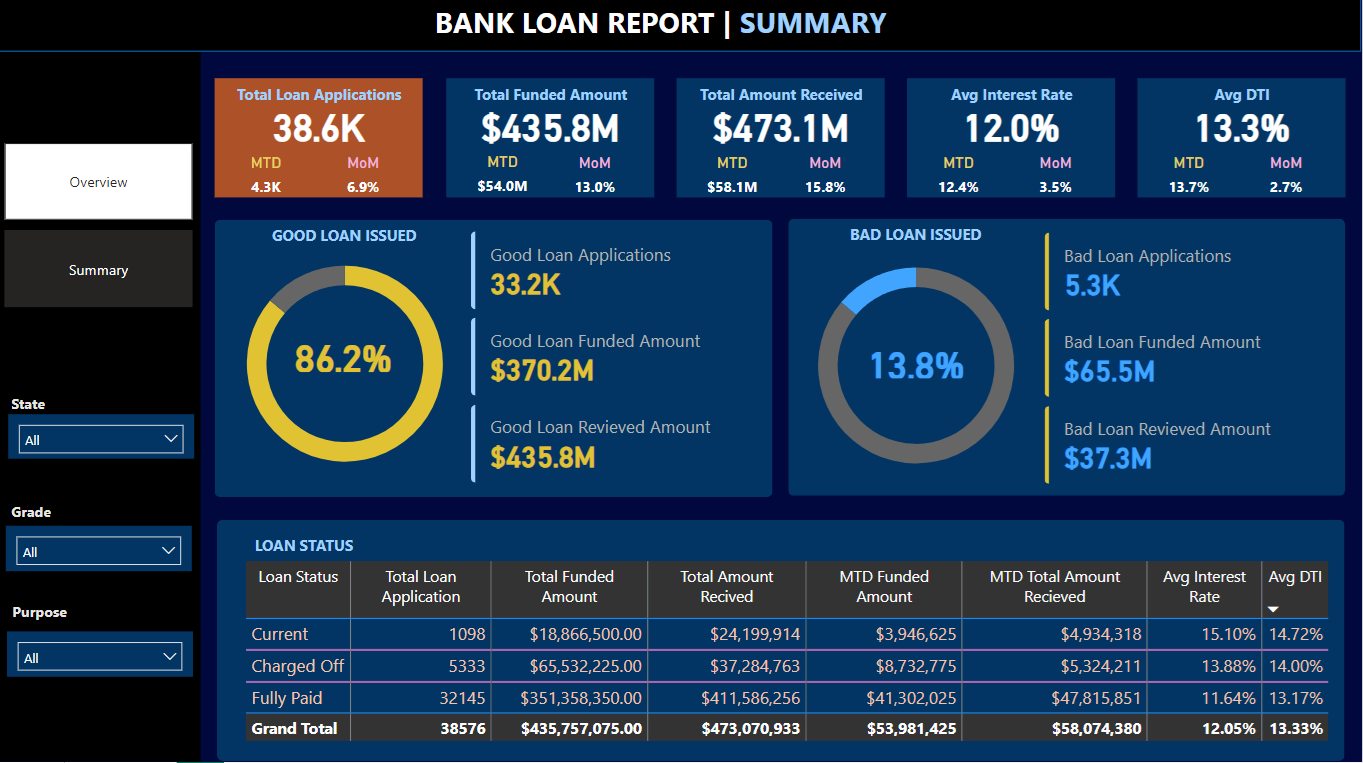

This screenshot's page, from the dashboard's own definition file:
{"tool":"powerbi","page":{"name":"Summary ","canvas":[1280,720],"ordinal":0},"visuals":[{"type":"shape","box":[0,54.7,192.7,664.8],"z":0},{"type":"shape","box":[206.2,79.7,194.8,111.6],"z":0,"group":"g1"},{"type":"shape","box":[422.1,79.7,194.8,111.6],"z":0,"group":"g4"},{"type":"shape","box":[638,79.7,194.8,111.6],"z":0,"group":"g3"},{"type":"shape","box":[853.9,79.7,194.8,111.6],"z":0,"group":"g2"},{"type":"shape","box":[1069.8,79.7,194.8,111.6],"z":0,"group":"g5"},{"type":"card","fields":{"Values":["financial_loan.Total Loan Application"]},"box":[206.2,95.6,194.8,54.7],"z":1000,"group":"g1"},{"type":"card","fields":{"Values":["financial_loan.Total Funded Amount"]},"box":[422.1,95.6,194.8,54.7],"z":1000,"group":"g4"},{"type":"card","fields":{"Values":["financial_loan.Total Amount Recived"]},"box":[638,95.6,194.8,54.7],"z":1000,"group":"g3"},{"type":"card","fields":{"Values":["financial_loan.Avg Interest Rate"]},"box":[853.9,95.6,194.8,54.7],"z":1000,"group":"g2"},{"type":"card","fields":{"Values":["financial_loan.Avg DTI"]},"box":[1069.8,95.6,194.8,54.7],"z":1000,"group":"g5"},{"type":"shape","box":[207.5,493.8,1055.9,225.8],"z":1000},{"type":"textbox","box":[207.3,79.7,193.7,31.9],"z":2000,"group":"g1"},{"type":"textbox","box":[423.2,79.7,193.7,31.9],"z":2000,"group":"g4"},{"type":"textbox","box":[639.1,79.7,193.7,31.9],"z":2000,"group":"g3"},{"type":"textbox","box":[855,79.7,193.7,31.9],"z":2000,"group":"g2"},{"type":"textbox","box":[1070.9,79.7,193.7,31.9],"z":2000,"group":"g5"},{"type":"shape","box":[742.8,211.3,521.4,259.6],"z":2000},{"type":"card","title":"MTD","fields":{"Values":["financial_loan.MTD Funded Amount"]},"box":[445.4,149.8,58.1,50.1],"z":3000,"group":"g4"},{"type":"card","title":"MTD","fields":{"Values":["financial_loan.MTD Loan Applications"]},"box":[229,150.3,51.3,50.1],"z":3000,"group":"g1"},{"type":"card","title":"MTD","fields":{"Values":["financial_loan.MTD Avg Interest"]},"box":[876.7,150.3,51.3,50.1],"z":3000,"group":"g2"},{"type":"card","title":"MTD","fields":{"Values":["financial_loan.MTD Avg DTI"]},"box":[1092.6,150.3,51.3,50.1],"z":3000,"group":"g5"},{"type":"card","title":"MTD","fields":{"Values":["financial_loan.MTD Total Amount Recieved"]},"box":[660.5,150.6,59.2,50.1],"z":3000,"group":"g3"},{"type":"shape","box":[205.6,212.4,522.6,259.6],"z":3000},{"type":"textbox","box":[1.1,0,193.7,31.9],"z":4000},{"type":"card","title":"MoM","fields":{"Values":["financial_loan.MoM Loan Application"]},"box":[320.1,150.3,51.3,50.1],"z":4000,"group":"g1"},{"type":"card","title":"MoM","fields":{"Values":["financial_loan.MoM Total funded Amount"]},"box":[536,150.3,51.3,50.1],"z":4000,"group":"g4"},{"type":"card","title":"MoM","fields":{"Values":["financial_loan.MoM Total Amount Recieved"]},"box":[751.9,150.3,51.3,50.1],"z":4000,"group":"g3"},{"type":"card","title":"MoM","fields":{"Values":["financial_loan.MoM Avg Int Rate"]},"box":[967.8,150.3,51.3,50.1],"z":4000,"group":"g2"},{"type":"card","title":"MoM","fields":{"Values":["financial_loan.MoM Avg DTI"]},"box":[1183.7,150.3,51.3,50.1],"z":4000,"group":"g5"},{"type":"textbox","box":[11.1,10,193.7,31.9],"z":5000},{"type":"textbox","box":[238.3,502.9,163.1,31.9],"z":6000},{"type":"textbox","box":[21.1,20,193.7,31.9],"z":7000},{"type":"textbox","box":[31.1,30,193.7,31.9],"z":8000},{"type":"shape","box":[0,0,1279.4,55],"z":9000},{"type":"textbox","box":[765.1,211,193.9,31.9],"z":10000},{"type":"textbox","box":[230.4,212.4,193.3,31.5],"z":11000},{"type":"card","fields":{"Values":["financial_loan.Good Loan %"]},"box":[266.3,319.1,119.1,40.5],"z":12000},{"type":"textbox","box":[407.1,3.4,448.1,46.8],"z":13000},{"type":"group","id":"g1","title":"Group 1","box":[206.2,79.7,194.8,120.8],"z":14000},{"type":"group","id":"g2","title":"Group 1","box":[853.9,79.7,194.8,120.8],"z":15000},{"type":"group","id":"g3","title":"Group 1","box":[638,79.7,194.8,120.8],"z":16000},{"type":"group","id":"g4","title":"Group 1","box":[422.1,79.7,194.8,120.8],"z":17000},{"type":"group","id":"g5","title":"Group 1","box":[1069.8,79.7,194.8,120.8],"z":18000},{"type":"donutChart","fields":{"Y":["financial_loan.Total Loan Application"],"Category":["financial_loan.Good vs Bad Loan"]},"box":[207.5,199.6,239.5,294.2],"z":19000},{"type":"cardVisual","fields":{"Data":["financial_loan.Good Loan Applications","financial_loan.Good Loan Funded Amount","financial_loan.Good Loan Revieved Amount"]},"box":[434.5,212.1,293.1,258.9],"z":20000},{"type":"donutChart","fields":{"Y":["financial_loan.Total Loan Application"],"Category":["financial_loan.Good vs Bad Loan"]},"box":[742.3,201.8,239.5,293.1],"z":21000},{"type":"card","fields":{"Values":["financial_loan.Bad Loan %"]},"box":[802.8,326.1,119.7,39.9],"z":22000},{"type":"cardVisual","fields":{"Data":["financial_loan.Bad Loan Applications","financial_loan.Bad Loan Funded Amount","financial_loan.Bad Loan Revieved Amount"]},"box":[971.5,213.2,293.1,258.9],"z":23000},{"type":"tableEx","fields":{"Values":["financial_loan.loan_status","financial_loan.Total Loan Application","financial_loan.Total Funded Amount","financial_loan.Total Amount Recived","financial_loan.MTD Funded Amount","financial_loan.MTD Total Amount Recieved","financial_loan.Avg Interest Rate","financial_loan.Avg DTI"]},"box":[229.2,526.8,1040,184.7],"z":24000},{"type":"slicer","fields":{"Values":["financial_loan.address_state"]},"box":[10.3,450.4,174.5,42.2],"z":25000},{"type":"textbox","box":[10.3,426.5,163.1,31.9],"z":26000},{"type":"slicer","fields":{"Values":["financial_loan.grade"]},"box":[11.4,551.9,174.5,42.2],"z":27000},{"type":"slicer","fields":{"Values":["financial_loan.purpose"]},"box":[10.3,652.3,174.5,42.2],"z":28000},{"type":"textbox","box":[10.3,526.8,163.1,31.9],"z":29000},{"type":"textbox","box":[10.3,628.3,163.1,31.9],"z":30000}]}

Visuals, with their boxes on the page's 1280x720 design canvas (x1, y1, x2, y2). These are canvas units, not pixel positions in the 1363x763 screenshot, which may show the page scaled, cropped or inside an application window:
shape: <box>0,55,193,720</box>
shape: <box>206,80,401,191</box>
shape: <box>422,80,617,191</box>
shape: <box>638,80,833,191</box>
shape: <box>854,80,1049,191</box>
shape: <box>1070,80,1265,191</box>
card - financial_loan.Total Loan Application: <box>206,96,401,150</box>
card - financial_loan.Total Funded Amount: <box>422,96,617,150</box>
card - financial_loan.Total Amount Recived: <box>638,96,833,150</box>
card - financial_loan.Avg Interest Rate: <box>854,96,1049,150</box>
card - financial_loan.Avg DTI: <box>1070,96,1265,150</box>
shape: <box>208,494,1263,720</box>
textbox: <box>207,80,401,112</box>
textbox: <box>423,80,617,112</box>
textbox: <box>639,80,833,112</box>
textbox: <box>855,80,1049,112</box>
textbox: <box>1071,80,1265,112</box>
shape: <box>743,211,1264,471</box>
"MTD" card: <box>445,150,504,200</box>
"MTD" card: <box>229,150,280,200</box>
"MTD" card: <box>877,150,928,200</box>
"MTD" card: <box>1093,150,1144,200</box>
"MTD" card: <box>660,151,720,201</box>
shape: <box>206,212,728,472</box>
textbox: <box>1,0,195,32</box>
"MoM" card: <box>320,150,371,200</box>
"MoM" card: <box>536,150,587,200</box>
"MoM" card: <box>752,150,803,200</box>
"MoM" card: <box>968,150,1019,200</box>
"MoM" card: <box>1184,150,1235,200</box>
textbox: <box>11,10,205,42</box>
textbox: <box>238,503,401,535</box>
textbox: <box>21,20,215,52</box>
textbox: <box>31,30,225,62</box>
shape: <box>0,0,1279,55</box>
textbox: <box>765,211,959,243</box>
textbox: <box>230,212,424,244</box>
card - financial_loan.Good Loan %: <box>266,319,385,360</box>
textbox: <box>407,3,855,50</box>
"Group 1" group: <box>206,80,401,200</box>
"Group 1" group: <box>854,80,1049,200</box>
"Group 1" group: <box>638,80,833,200</box>
"Group 1" group: <box>422,80,617,200</box>
"Group 1" group: <box>1070,80,1265,200</box>
donutChart - financial_loan.Total Loan Application x financial_loan.Good vs Bad Loan: <box>208,200,447,494</box>
cardVisual - financial_loan.Good Loan Applications x financial_loan.Good Loan Funded Amount: <box>434,212,728,471</box>
donutChart - financial_loan.Total Loan Application x financial_loan.Good vs Bad Loan: <box>742,202,982,495</box>
card - financial_loan.Bad Loan %: <box>803,326,922,366</box>
cardVisual - financial_loan.Bad Loan Applications x financial_loan.Bad Loan Funded Amount: <box>972,213,1265,472</box>
tableEx - financial_loan.loan_status x financial_loan.Total Loan Application: <box>229,527,1269,712</box>
slicer - financial_loan.address_state: <box>10,450,185,493</box>
textbox: <box>10,426,173,458</box>
slicer - financial_loan.grade: <box>11,552,186,594</box>
slicer - financial_loan.purpose: <box>10,652,185,694</box>
textbox: <box>10,527,173,559</box>
textbox: <box>10,628,173,660</box>
